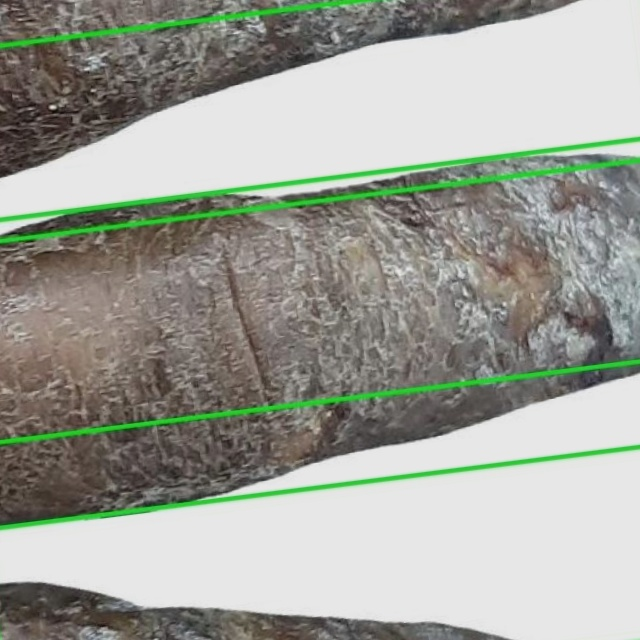Eczema: (0, 138, 639, 527), (0, 362, 639, 639), (0, 0, 639, 241)
